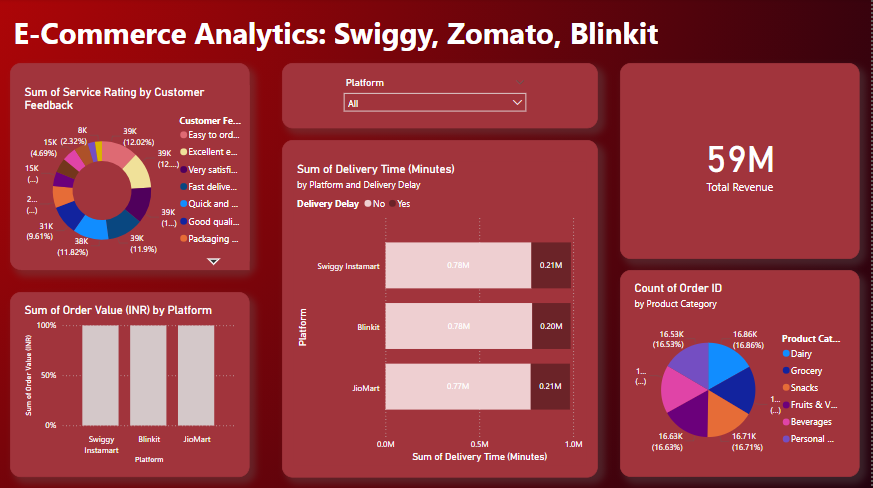

The dashboard page shown, as its layout file describes it:
{"tool":"powerbi","page":{"name":"Page 1","canvas":[1280,720],"ordinal":0},"visuals":[{"type":"shape","box":[912,400,352,304],"z":0},{"type":"shape","box":[912,96,352,288],"z":1000},{"type":"shape","box":[416,208,464,496],"z":2000},{"type":"shape","box":[416,96,464,96],"z":3000},{"type":"shape","box":[16,432,352,272],"z":4000},{"type":"shape","box":[16,96,352,304],"z":5000},{"type":"textbox","box":[16,16,1072,96],"z":6000},{"type":"donutChart","fields":{"Category":["Ecommerce_Delivery_Analytics_New.Customer Feedback"],"Y":["Sum(Ecommerce_Delivery_Analytics_New.Service Rating)"]},"box":[32,128,336,272],"z":7000},{"type":"barChart","fields":{"Y":["Sum(Ecommerce_Delivery_Analytics_New.Delivery Time (Minutes))"],"Category":["Ecommerce_Delivery_Analytics_New.Platform"],"Series":["Ecommerce_Delivery_Analytics_New.Delivery Delay"]},"box":[432,240,432,448],"z":8000},{"type":"card","fields":{"Values":["Ecommerce_Delivery_Analytics_New.Total Revenue"]},"box":[928,112,320,256],"z":9000},{"type":"hundredPercentStackedColumnChart","fields":{"Y":["Sum(Ecommerce_Delivery_Analytics_New.Order Value (INR))"],"Category":["Ecommerce_Delivery_Analytics_New.Platform"]},"box":[32,448,320,240],"z":10000},{"type":"pieChart","fields":{"Category":["Ecommerce_Delivery_Analytics_New.Product Category"],"Y":["CountNonNull(Ecommerce_Delivery_Analytics_New.Order ID)"]},"box":[928,416,320,272],"z":11000},{"type":"slicer","fields":{"Values":["Ecommerce_Delivery_Analytics_New.Platform"]},"box":[496,112,288,64],"z":12000}]}

Visuals, with their boxes in screenshot pixels (x1, y1, x2, y2), scaled from the page's 1280x720 canvas onto the 873x488 screenshot:
shape: x1=622, y1=271, x2=862, y2=477
shape: x1=622, y1=65, x2=862, y2=260
shape: x1=284, y1=141, x2=600, y2=477
shape: x1=284, y1=65, x2=600, y2=130
shape: x1=11, y1=293, x2=251, y2=477
shape: x1=11, y1=65, x2=251, y2=271
textbox: x1=11, y1=11, x2=742, y2=76
donutChart - Ecommerce_Delivery_Analytics_New.Customer Feedback x Sum(Ecommerce_Delivery_Analytics_New.Service Rating): x1=22, y1=87, x2=251, y2=271
barChart - Sum(Ecommerce_Delivery_Analytics_New.Delivery Time (Minutes)) x Ecommerce_Delivery_Analytics_New.Platform: x1=295, y1=163, x2=589, y2=466
card - Ecommerce_Delivery_Analytics_New.Total Revenue: x1=633, y1=76, x2=851, y2=249
hundredPercentStackedColumnChart - Sum(Ecommerce_Delivery_Analytics_New.Order Value (INR)) x Ecommerce_Delivery_Analytics_New.Platform: x1=22, y1=304, x2=240, y2=466
pieChart - Ecommerce_Delivery_Analytics_New.Product Category x CountNonNull(Ecommerce_Delivery_Analytics_New.Order ID): x1=633, y1=282, x2=851, y2=466
slicer - Ecommerce_Delivery_Analytics_New.Platform: x1=338, y1=76, x2=535, y2=119
